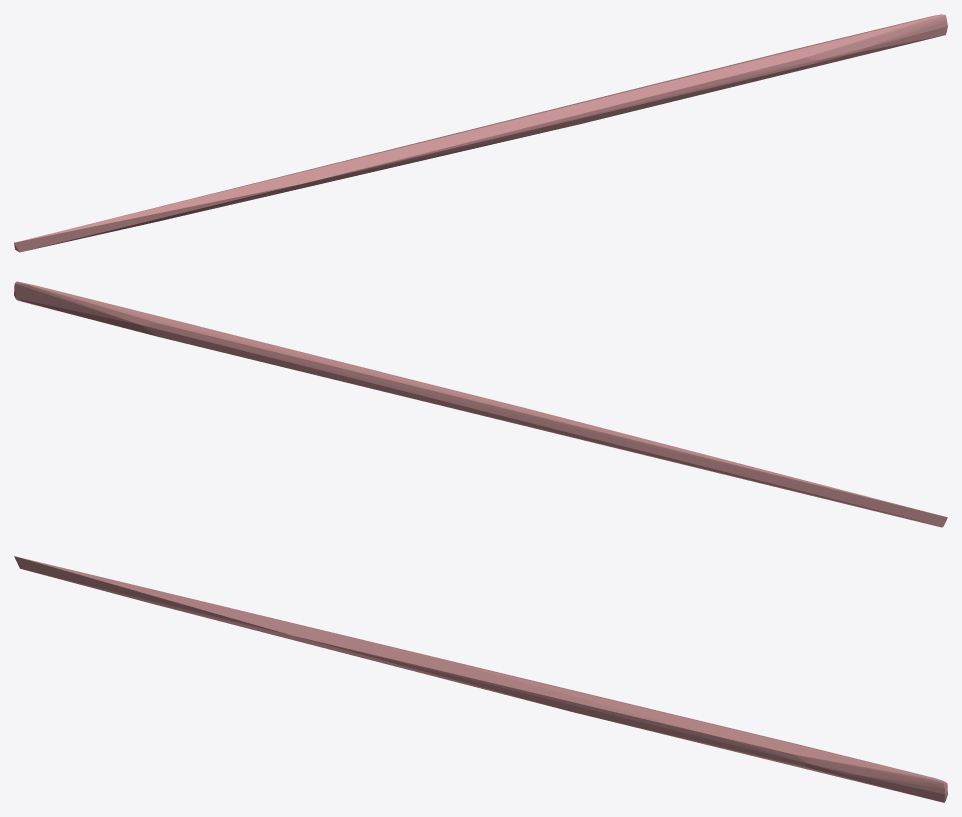
The model's file is paint_supplies_brush_a07.glb.
3 renders of one model, top to bottom at view 1: azimuth 30°, elevation 25°; view 2: azimuth 150°, elevation 25°; view 3: azimuth 330°, elevation 25°, orthographic.
Visible parts, largest first — view 1: geometry_0; view 2: geometry_0; view 3: geometry_0.
Boxes of the visible parts, x1,y1,x2,y2 form: geometry_0: [14, 14, 947, 252]; geometry_0: [14, 281, 947, 527]; geometry_0: [14, 556, 947, 802].
Bounding box in the file's own units: 0.4783 × 0.0101 × 0.00938.
